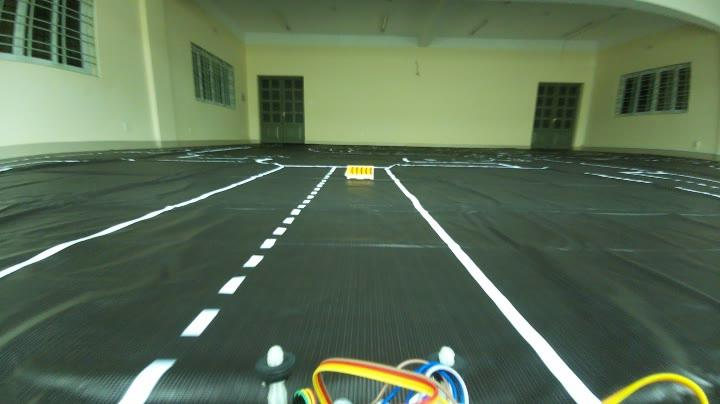roadblock: (338, 157, 378, 188)
